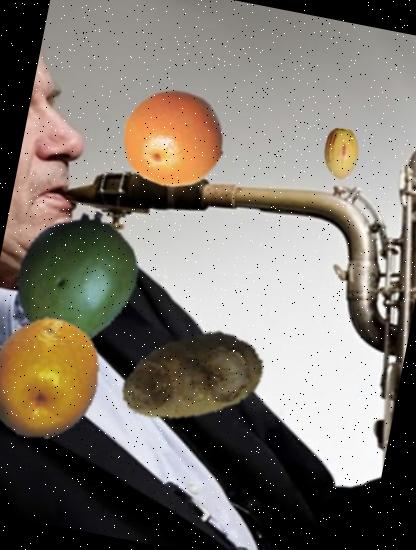Ginger: (106, 292, 278, 464)
Grapefruit: (114, 78, 233, 198)
Kumquats: (0, 306, 115, 450)
Mango: (0, 197, 156, 358)
Pepino: (311, 124, 371, 184)
